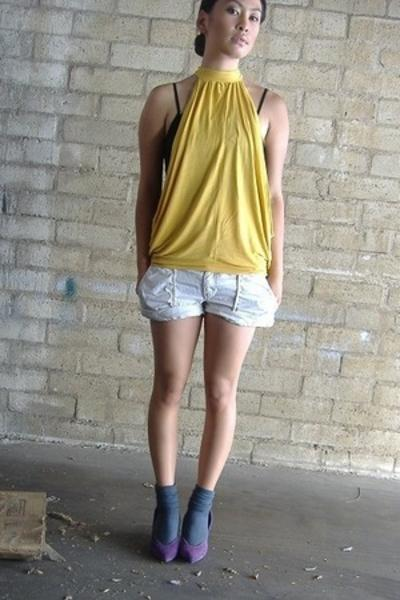shirt: (156, 57, 288, 278)
shoe: (139, 529, 208, 572)
shorts: (125, 266, 281, 331)
